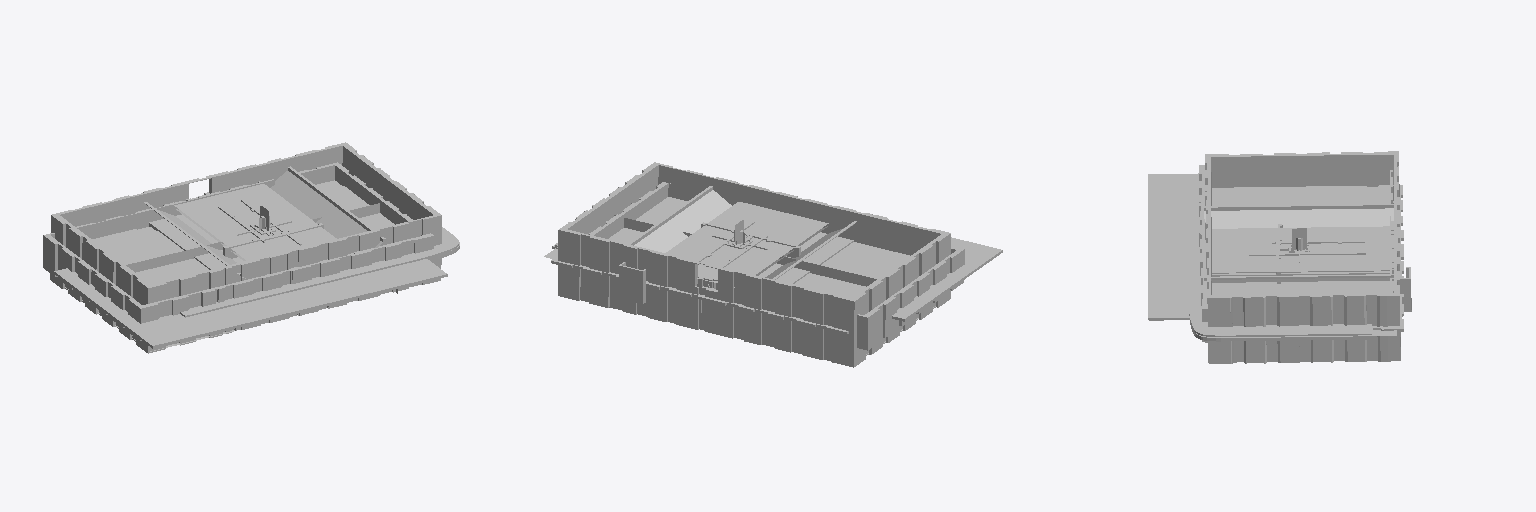
Rendered from buildingYunny.obj.
3 views of the same model, side by side, from view 1: azimuth 30°, elevation 25°; view 2: azimuth 150°, elevation 25°; view 3: azimuth 270°, elevation 25° (orthographic).
Visible parts, largest first — view 1: object_645, object_92, object_10, object_505, object_615, object_613, object_611, object_617, object_629, object_612, object_642; view 2: object_645, object_92, object_505, object_611, object_613, object_615, object_10, object_617, object_642, object_630, object_612; view 3: object_645, object_10, object_615, object_505, object_612, object_617, object_611, object_92, object_642, object_613, object_506.
Part boxes in pixels (x1,y1,x2,y2): object_645: (50, 142, 441, 353); object_92: (43, 162, 433, 340); object_10: (54, 259, 447, 348); object_505: (106, 186, 458, 317); object_615: (174, 189, 312, 274); object_613: (271, 166, 385, 247); object_611: (228, 184, 353, 268); object_617: (149, 214, 243, 269); object_629: (126, 201, 389, 272); object_612: (144, 202, 245, 278); object_642: (92, 180, 341, 249); object_645: (558, 162, 950, 367); object_92: (589, 182, 964, 350); object_505: (555, 197, 909, 297); object_611: (666, 202, 788, 288); object_613: (628, 186, 731, 252); object_615: (714, 208, 828, 282); object_10: (892, 237, 1002, 321); object_617: (759, 232, 853, 283); object_642: (551, 256, 848, 334); object_630: (614, 215, 876, 286); object_612: (765, 221, 856, 279); object_645: (1205, 151, 1400, 363); object_10: (1148, 173, 1344, 320); object_615: (1205, 226, 1393, 261); object_505: (1189, 197, 1371, 341); object_612: (1204, 204, 1393, 228); object_617: (1212, 271, 1389, 294); object_611: (1205, 259, 1393, 276); object_92: (1199, 165, 1411, 341); object_642: (1345, 185, 1403, 331); object_613: (1204, 274, 1393, 282); object_506: (1192, 326, 1372, 340).
Size of the model in its own units: 7.26 by 1.49 by 4.89.